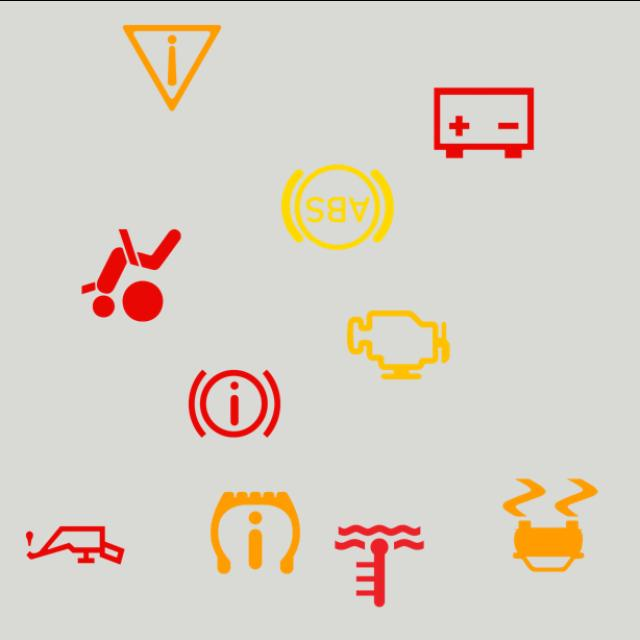Anti Lock Braking System: (276, 145, 399, 268)
Braking System Issue: (173, 341, 296, 464)
Charging System Issue: (422, 60, 545, 184)
Check Engine: (336, 282, 459, 406)
Electronic Stability Problem -ESP-: (489, 463, 612, 586)
Engine Overheating Warning Light: (318, 504, 441, 626)
Low Engine Oil Warning Light: (13, 482, 136, 606)
Low Tire Pressure Warning Light: (194, 470, 317, 593)
Master warning light: (110, 5, 234, 128)
SRS-Airbag: (70, 212, 193, 336)
